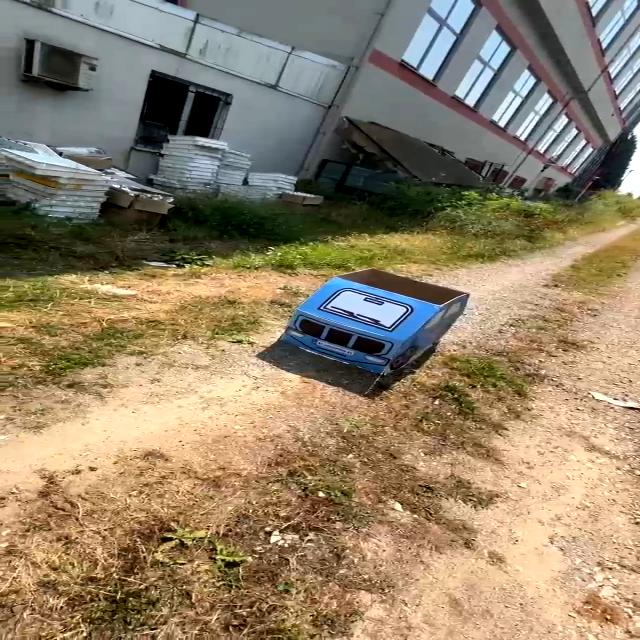blue_car: (265, 250, 482, 392)
